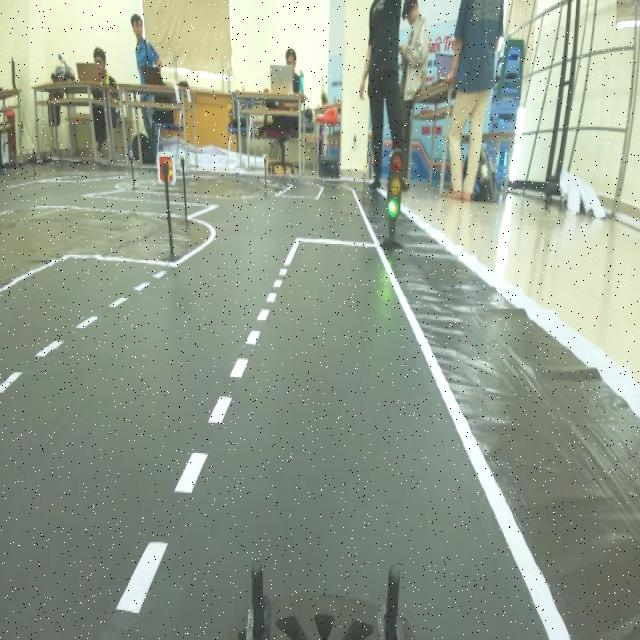trafficlight: (377, 144, 407, 257)
